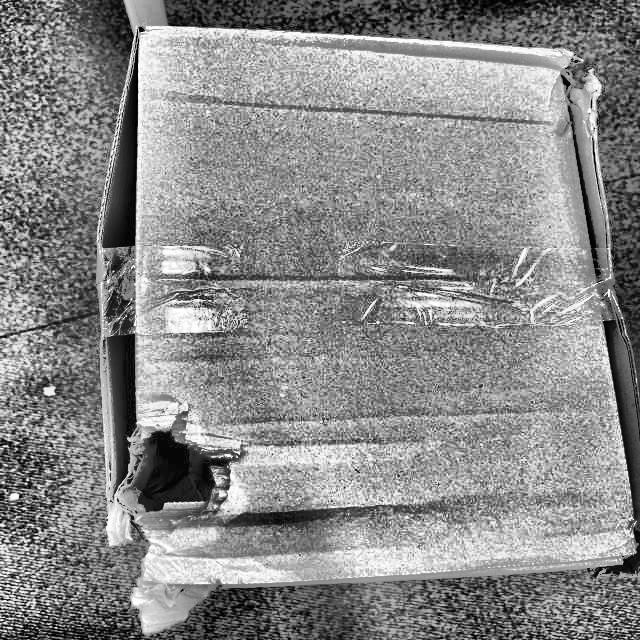box: (94, 15, 640, 615)
hole: (105, 406, 247, 546)
